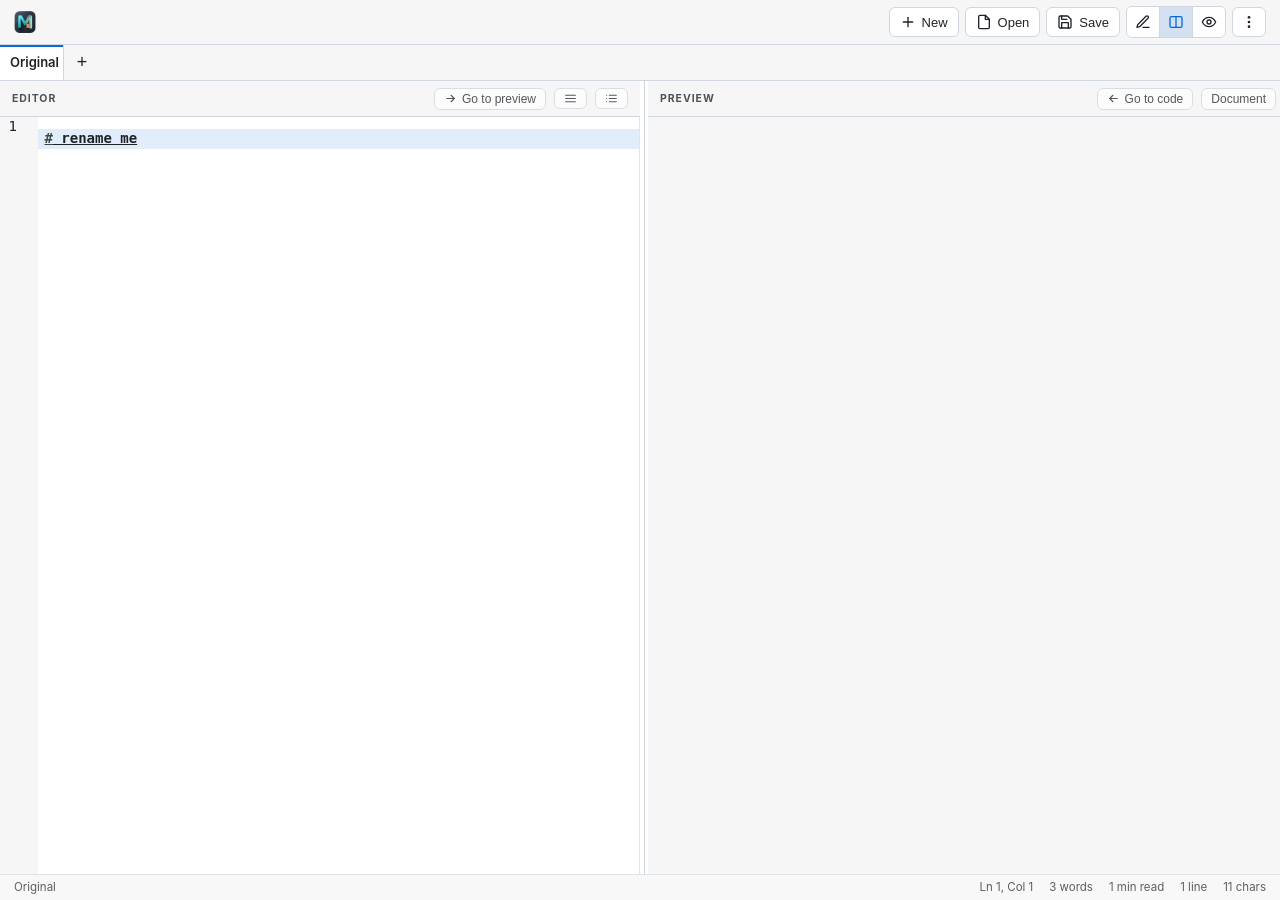
Test: in-window rename dialog › F2 opens the rename dialog and can rename the active tab end-to-end
The width and height of the screenshot is (1280, 900).
Expected: the element with class "cm-editor" is shown, [0,117,639,874]
Press F2
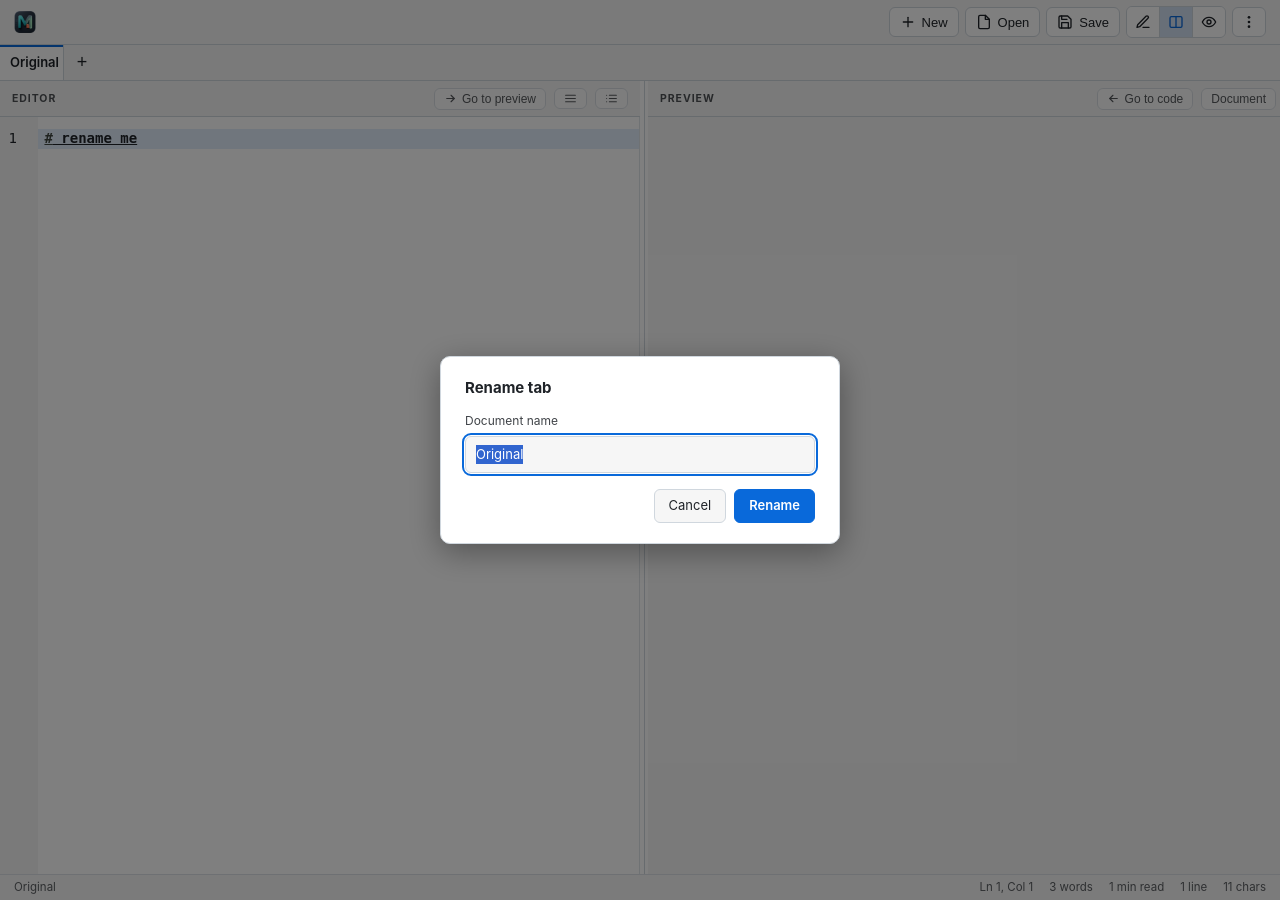
Result: the field with class "rename-input" is shown
Result: the field with class "rename-input" holds "Original"
Note: Type a new name and confirm — the shortcut path must rename for real.
Replace the text in the field with class "rename-input" with "F2 Renamed". click: coordinates (640, 455)
box: [465,436,815,473]
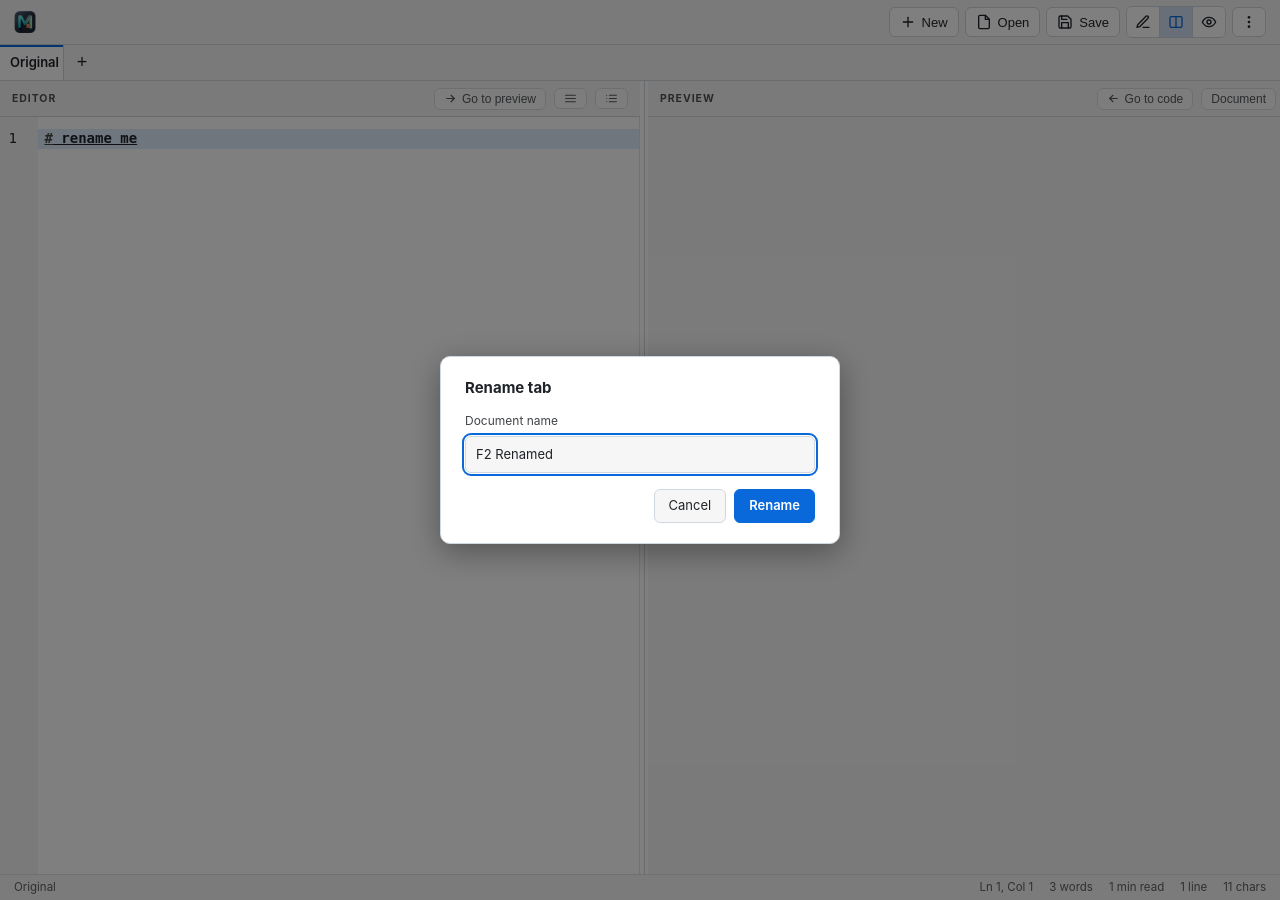
Press Enter in the field with class "rename-input", box [465,436,815,473]
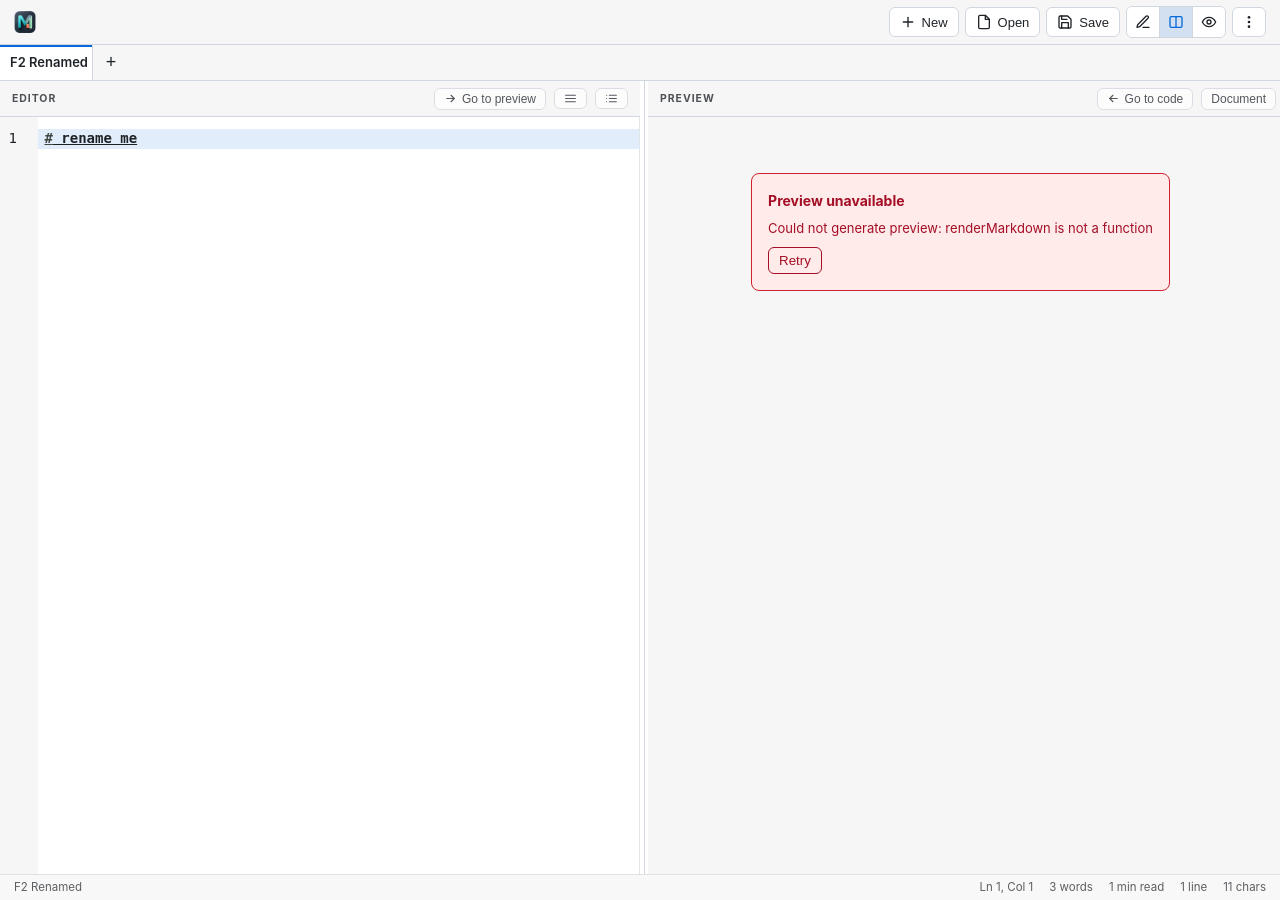
Result: the dialog is gone
Result: the text with class "tab-name" reads "F2 Renamed" at [10,54,88,70]
